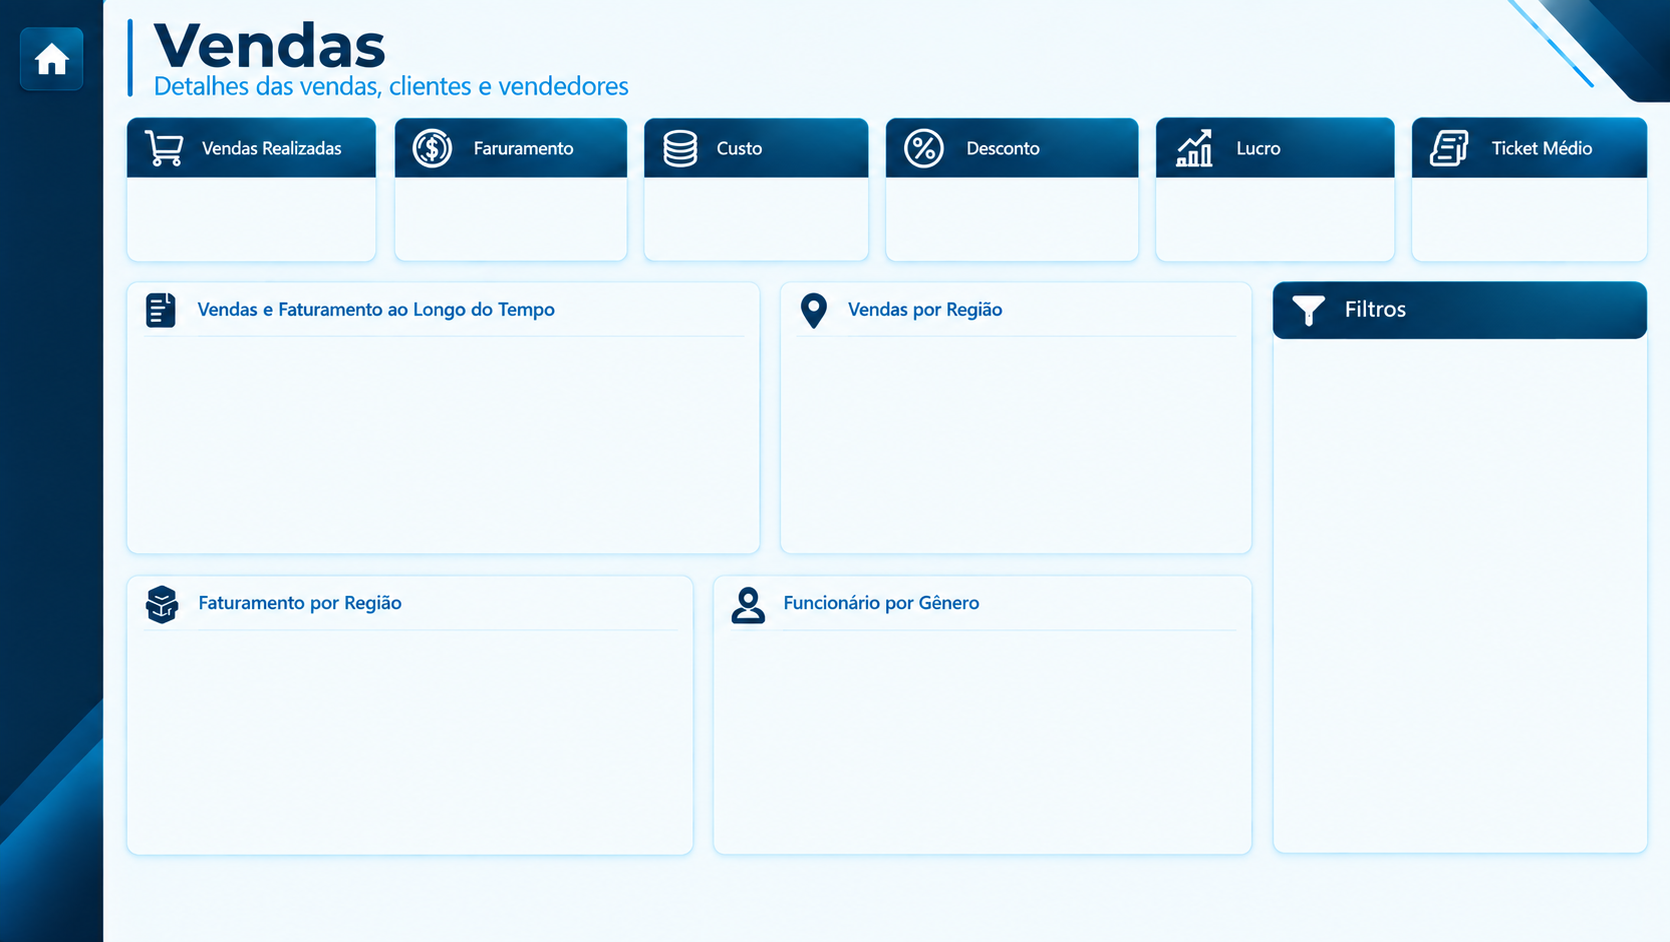

This screenshot's page, from the dashboard's own definition file:
{"tool":"powerbi","page":{"name":"Vendas","canvas":[1920,1080],"ordinal":1},"visuals":[{"type":"tableEx","fields":{"Values":["Venda.ID_Venda","Venda.Codigo_Cliente","Venda.Cliente","Venda.Produto","Sum(Venda.Quantidade)","Sum(Venda.Valor_Venda)"]},"box":[255.5,407.3,627.3,200.9],"z":0},{"type":"donutChart","fields":{"Category":["Vendedores.Gênero"],"Y":["CountNonNull(Vendedores.Gênero)"]},"box":[876.5,675.7,494.8,251.4],"z":1000},{"type":"cardVisual","fields":{"Data":["Medidas.Qtd.vendas"]},"box":[331.4,250,100,64.3],"z":7000},{"type":"cardVisual","fields":{"Data":["Medidas.Faturamento"]},"box":[535.7,250,204,64],"z":8000},{"type":"cardVisual","fields":{"Data":["Medidas.Total Custo"]},"box":[774.3,250,204,64],"z":9000},{"type":"cardVisual","fields":{"Data":["Medidas.Desconto total"]},"box":[1047.1,248.6,174.3,64.3],"z":10000},{"type":"cardVisual","fields":{"Data":["Medidas.Lucro"]},"box":[1292.9,250,207.1,64.3],"z":11000},{"type":"cardVisual","fields":{"Data":["Medidas.Ticket Médio"]},"box":[1572.9,250,161.4,64.3],"z":12000},{"type":"funnel","fields":{"Category":["Venda.Regiao"],"Y":["Medidas.Qtd.vendas"]},"box":[917.1,390,441.4,241.4],"z":16000},{"type":"pieChart","fields":{"Category":["Venda.Regiao"],"Y":["Medidas.Faturamento"]},"box":[280,710,534.3,207.1],"z":17002},{"type":"slicer","title":"Período","fields":{"Values":["Venda.Data"]},"box":[1431.4,420,302.9,67.1],"z":17003},{"type":"slicer","title":"Quantidade","fields":{"Values":["Venda.Quantidade"]},"box":[1431.4,505.7,302.9,67.1],"z":17004},{"type":"slicer","title":"Produto","fields":{"Values":["Venda.Produto"]},"box":[1431.7,590.8,302.9,67.1],"z":17005},{"type":"slicer","title":"Região","fields":{"Values":["Venda.Regiao"]},"box":[1431.7,675.8,302.9,67.1],"z":17006},{"type":"slicer","title":"Cliente","fields":{"Values":["Venda.Regiao"]},"box":[1431.7,758.3,302.9,67.1],"z":17007},{"type":"slicer","title":"Vendedor","fields":{"Values":["Vendedores.Vendedor"]},"box":[1431.7,839.2,302.9,67.1],"z":17008}]}

Visuals, with their boxes in screenshot pixels (x1, y1, x2, y2), scaled from the page's 1920x1080 canvas onto the 1670x942 screenshot:
tableEx - Venda.ID_Venda x Venda.Codigo_Cliente: 222/355/768/530
donutChart - Vendedores.Gênero x CountNonNull(Vendedores.Gênero): 762/589/1193/809
cardVisual - Medidas.Qtd.vendas: 288/218/375/274
cardVisual - Medidas.Faturamento: 466/218/643/274
cardVisual - Medidas.Total Custo: 673/218/851/274
cardVisual - Medidas.Desconto total: 911/217/1062/273
cardVisual - Medidas.Lucro: 1125/218/1305/274
cardVisual - Medidas.Ticket Médio: 1368/218/1508/274
funnel - Venda.Regiao x Medidas.Qtd.vendas: 798/340/1182/551
pieChart - Venda.Regiao x Medidas.Faturamento: 244/619/708/800
"Período" slicer: 1245/366/1508/425
"Quantidade" slicer: 1245/441/1508/500
"Produto" slicer: 1245/515/1509/574
"Região" slicer: 1245/589/1509/648
"Cliente" slicer: 1245/661/1509/720
"Vendedor" slicer: 1245/732/1509/790
